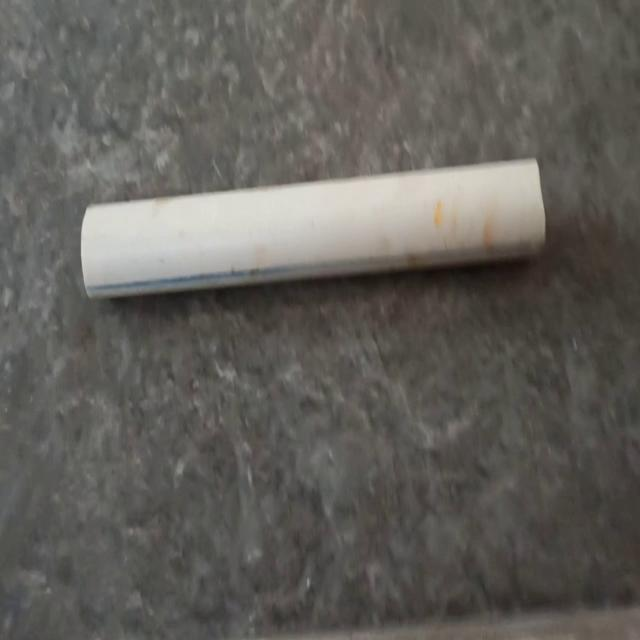Cube: (80, 154, 548, 300)
